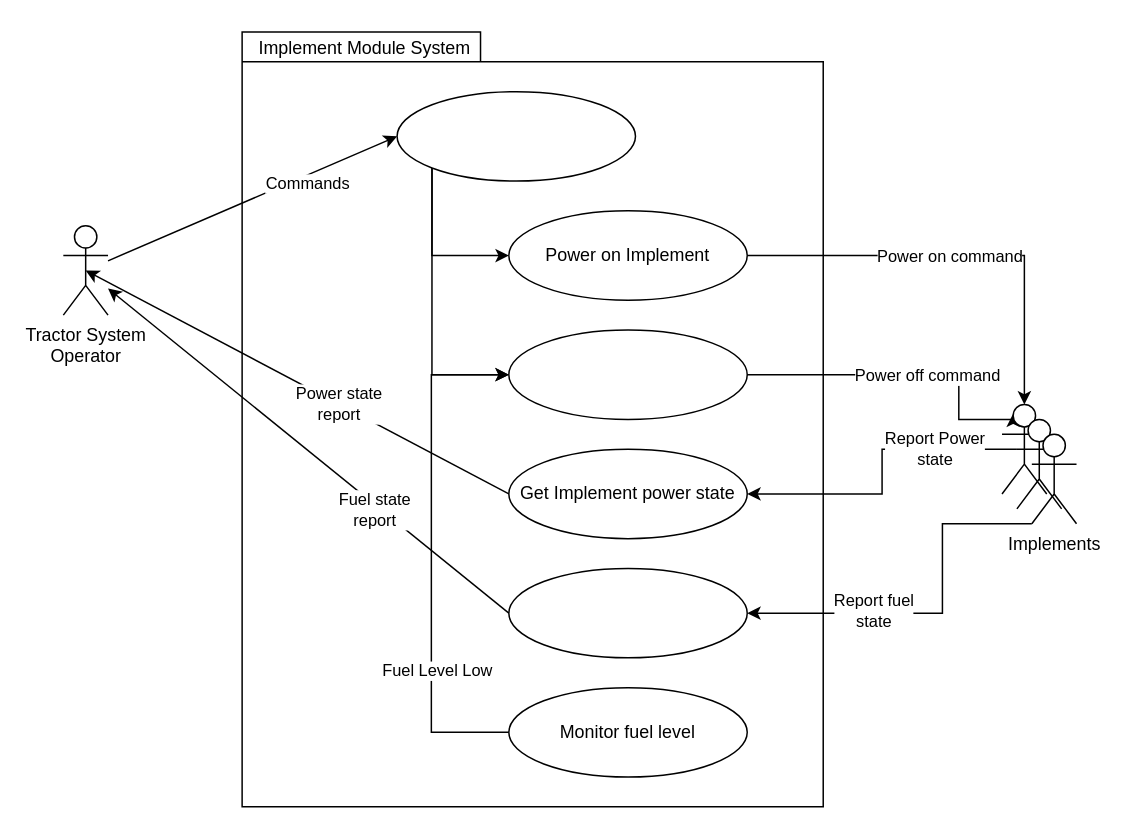
Some shapes in this 1126 by 833 pixel diagram are drawn without their labels. The shapes that lost their labels are listed below. From the top down, each one's box as (x1, y1, x2, y2) in pixels, then its label:
(396, 90, 635, 181): Trigger operator command
(507, 329, 747, 419): Power off Implement
(507, 567, 747, 658): Get Implement fuel state
